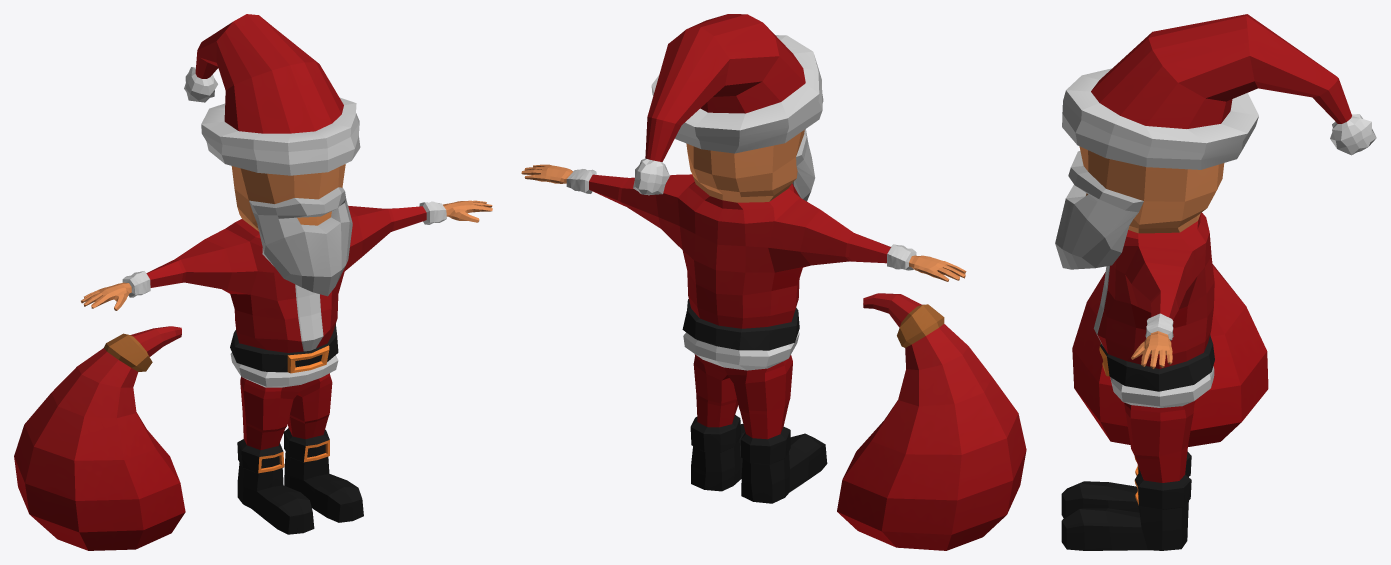
The model's file is Santa.glb.
The picture shows the model from 3 angles, left to right: view 1: azimuth 30°, elevation 25°; view 2: azimuth 150°, elevation 25°; view 3: azimuth 270°, elevation 25°; orthographic projection. The views are drawn at different scales.
Parts seen in each view (by area): view 1: Santa, Bag; view 2: Santa, Bag; view 3: Santa, Bag.
Part boxes in pixels (x1,y1,x2,y2): Santa: (81,14,492,534); Bag: (14,326,185,550); Santa: (521,14,966,503); Bag: (837,293,1026,550); Santa: (1055,14,1376,550); Bag: (1072,264,1268,446).
Size of the model in its own units: 2.37 by 2.23 by 1.27.
Materials: 1 (1 with a texture image).
